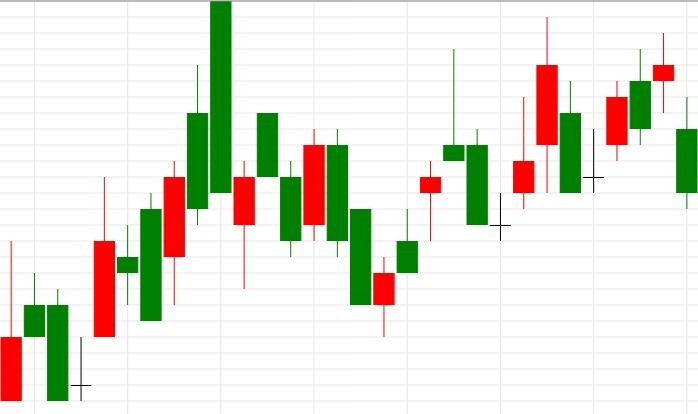shooting_star_fall: (373, 49, 465, 338)
